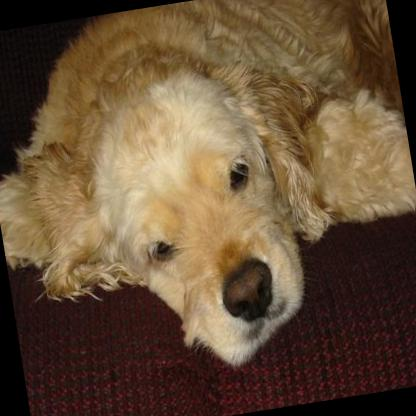cocker_spaniel: (0, 0, 416, 399)
